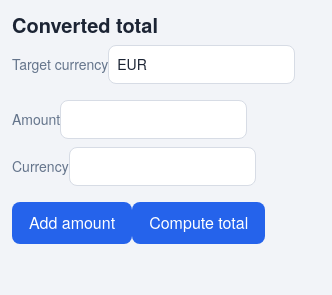
Test: ConvertedTotalCard › signale une erreur quand la requête échoue (ex. 422)
The width and height of the screenshot is (332, 295).
Click the button with test id "exchange-submit". click: point(199, 223)
box: [132,202,265,244]
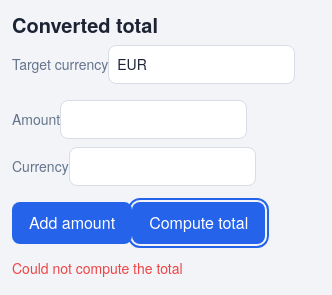
expect the message with test id "exchange-error" reads "Could not compute the total": met, box [12,258,183,278]
